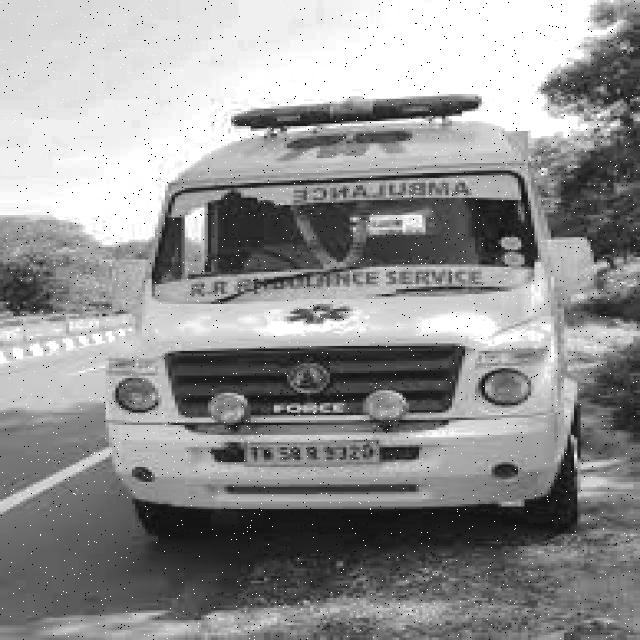LCV: (101, 94, 574, 515)
